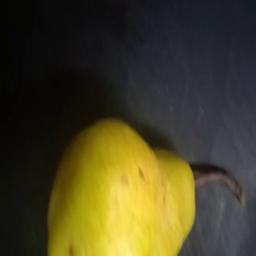Pear Semifresh: (45, 107, 256, 256)
